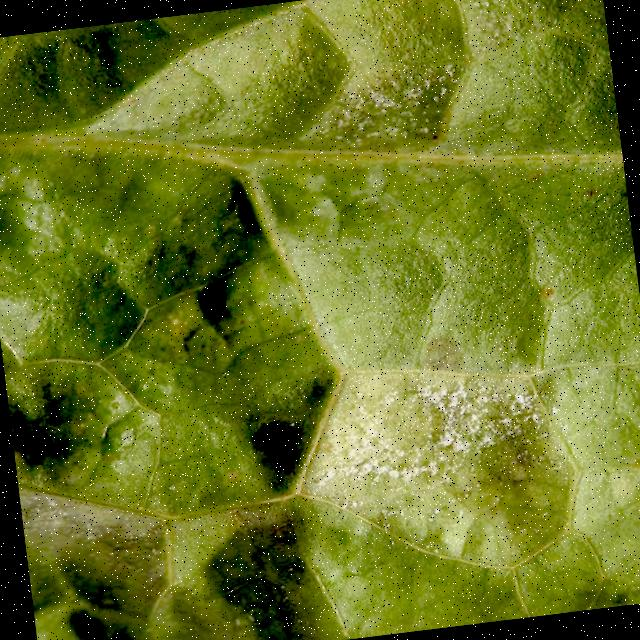Powdery_mildew_on_lettuce: (280, 336, 597, 578)
